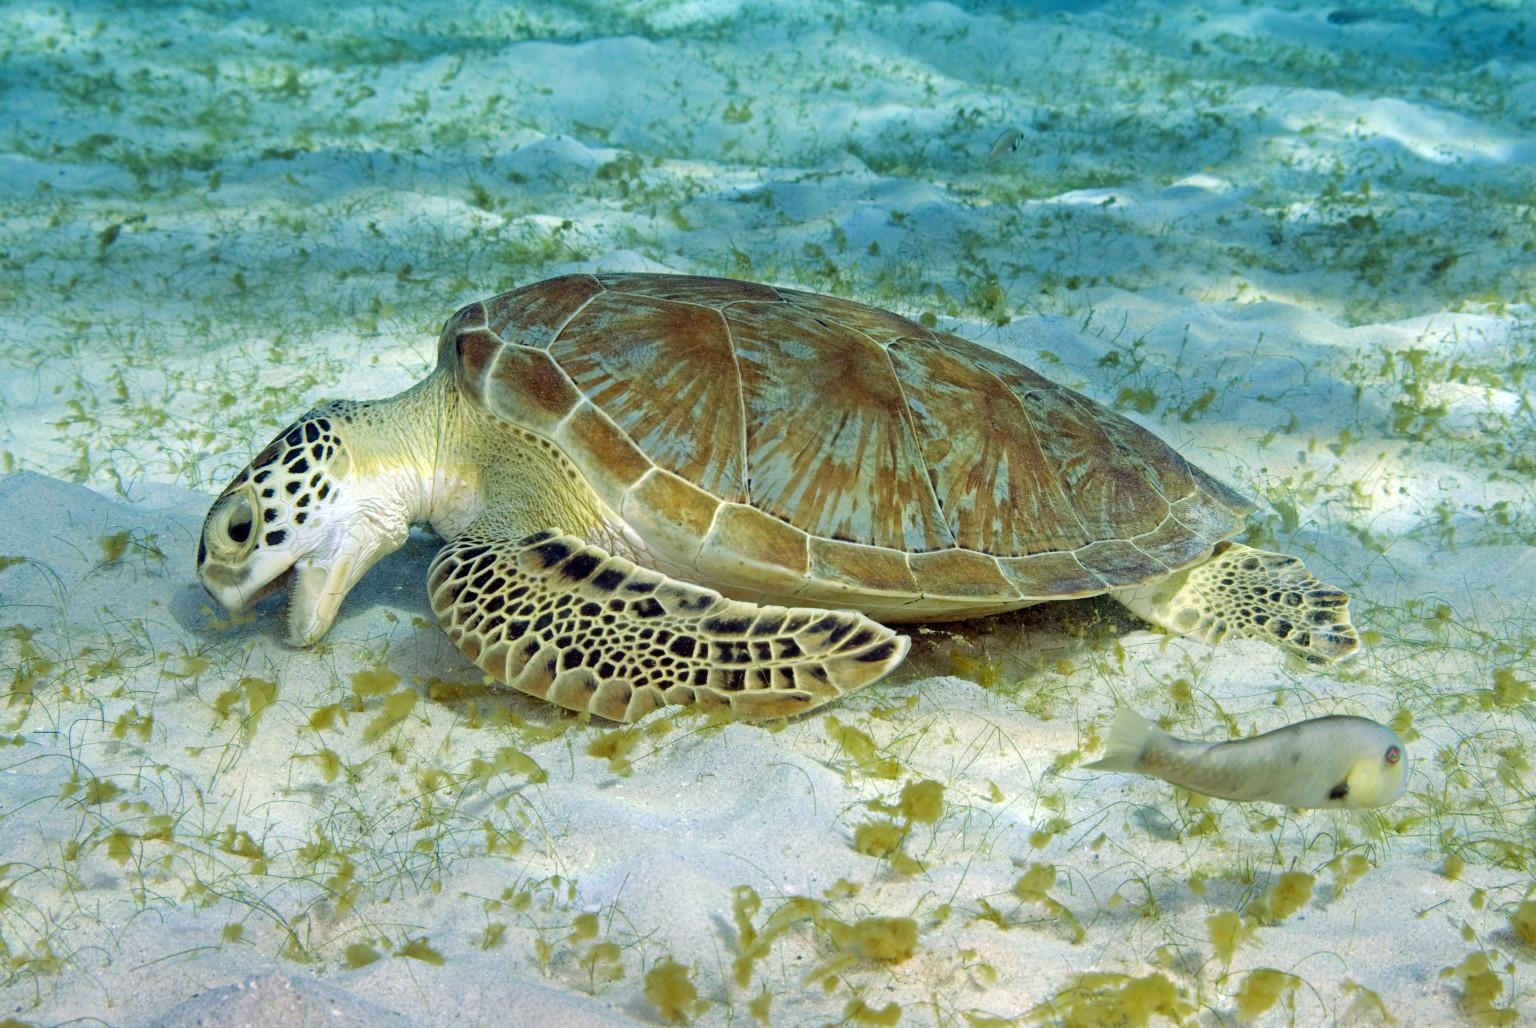turtle: (186, 371, 401, 661)
